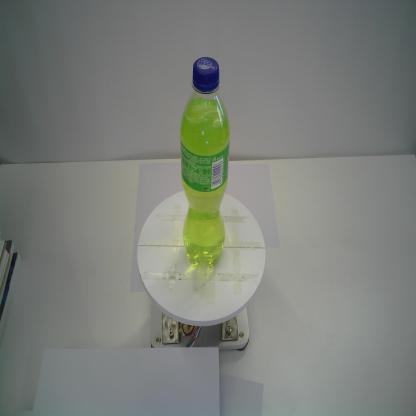Drink: (178, 53, 231, 272)
